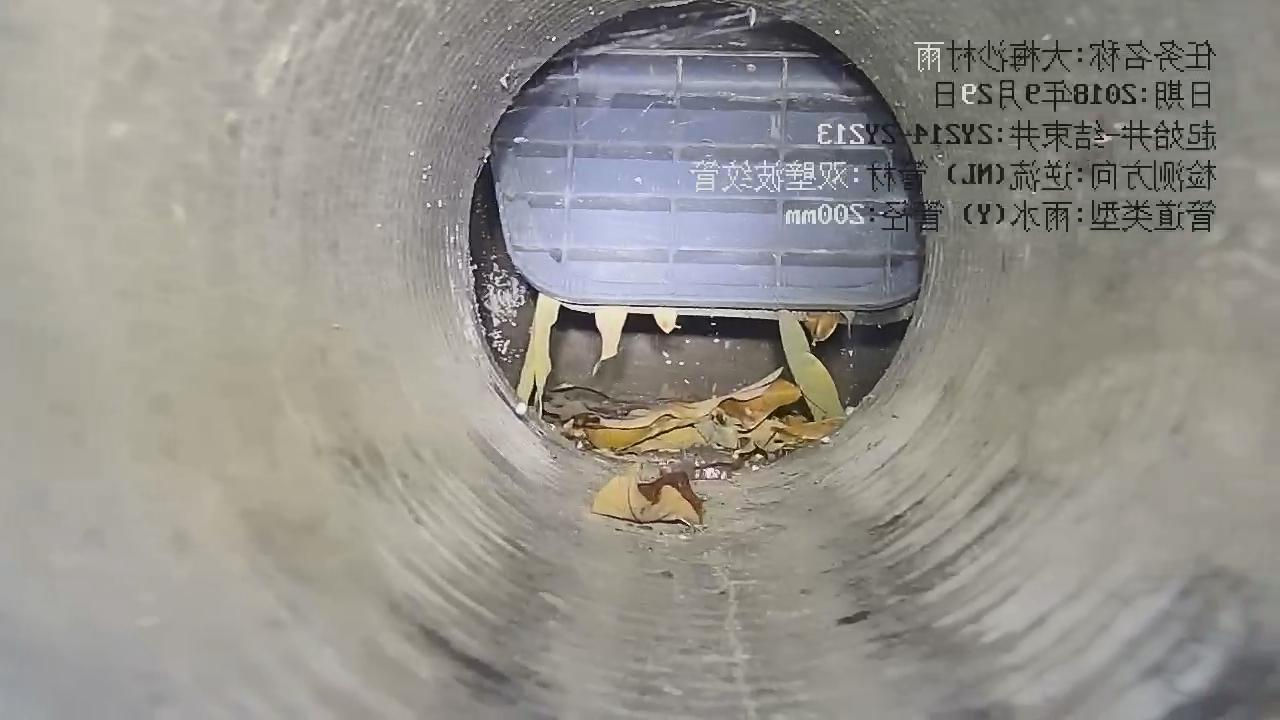YWCR: (488, 2, 924, 401)
